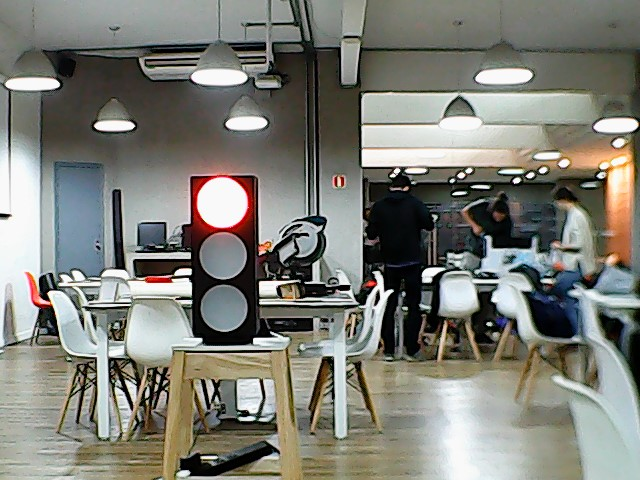vermelho: (187, 172, 262, 345)
